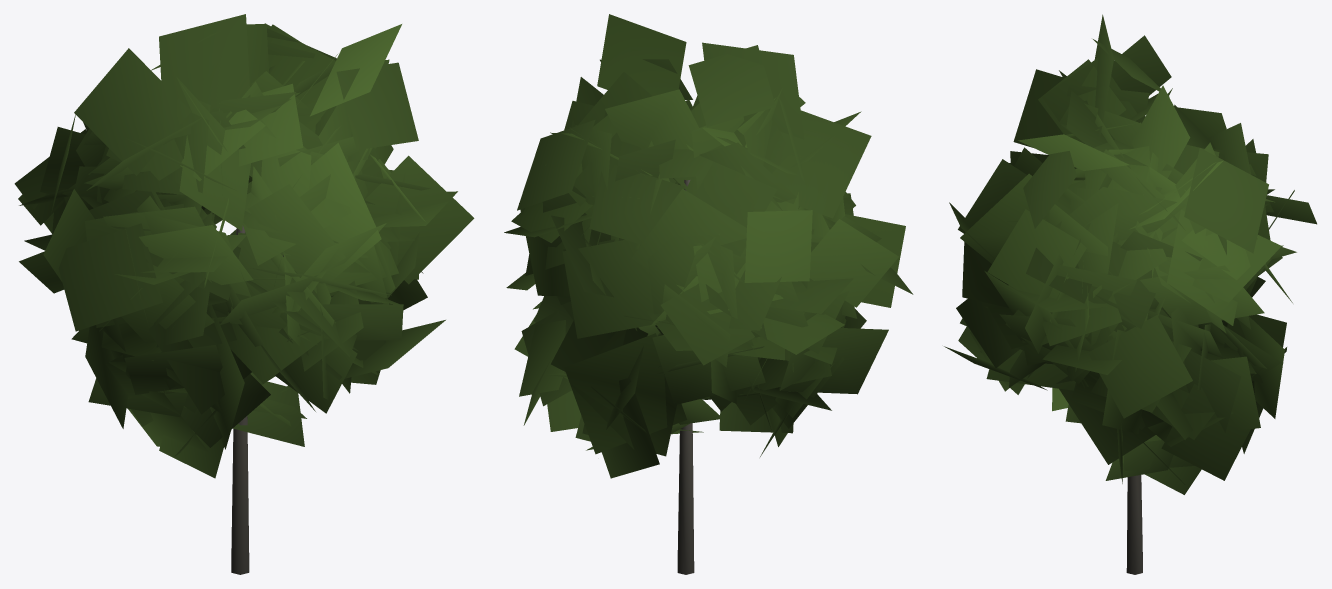
Rendered from SM_Buk_1.glb.
3 renders of one model, left to right at view 1: azimuth 30°, elevation 25°; view 2: azimuth 150°, elevation 25°; view 3: azimuth 270°, elevation 25°, orthographic. The views are drawn at different scales.
Visible parts, largest first — view 1: SM_Buk_1; view 2: SM_Buk_1; view 3: SM_Buk_1.
Boxes of the visible parts, x1,y1,x2,y2 form: SM_Buk_1: (14, 14, 474, 574); SM_Buk_1: (504, 14, 913, 574); SM_Buk_1: (944, 14, 1316, 574).
Size of the model in its own units: 12.96 by 18.03 by 11.93.
